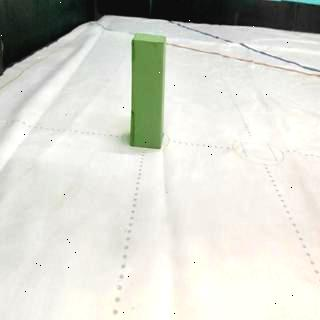greenbox: (132, 32, 166, 150)
